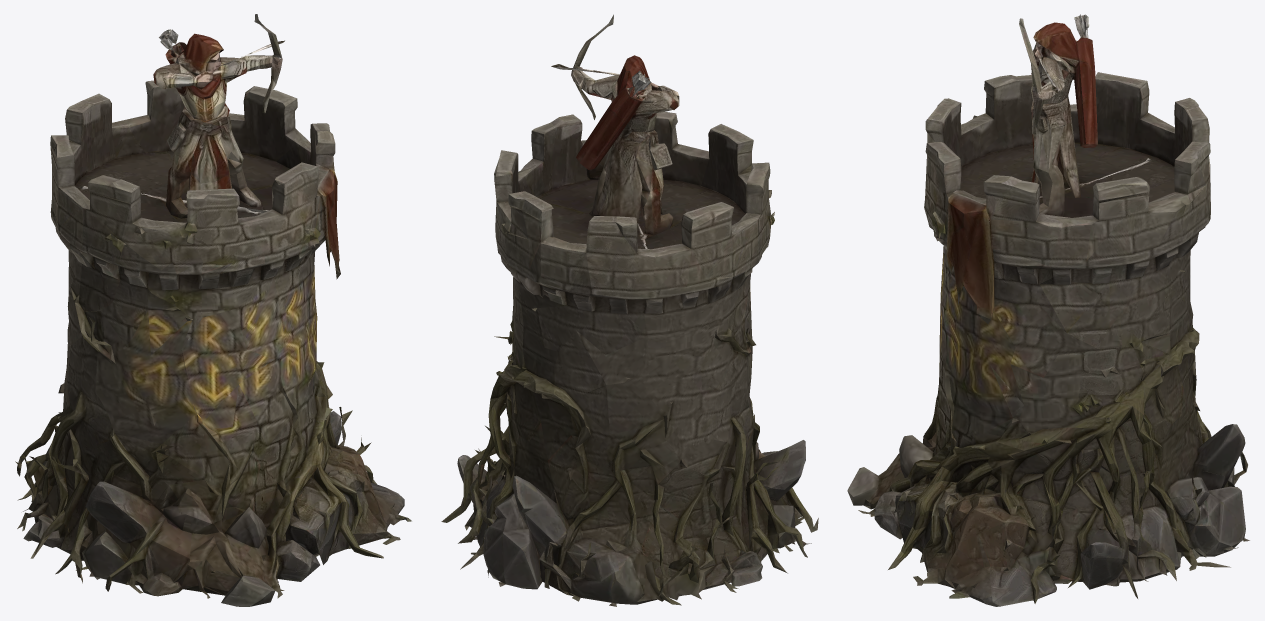
The picture shows the model from 3 angles, left to right: view 1: azimuth 30°, elevation 25°; view 2: azimuth 150°, elevation 25°; view 3: azimuth 270°, elevation 25°; orthographic projection. The views are drawn at different scales.
Size of the model in its own units: 1.32 by 1.9 by 1.33.
1 material, 1 textured.
